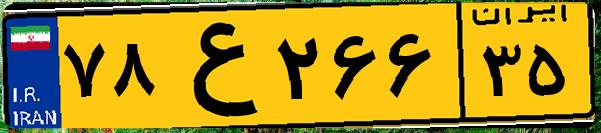2: (270, 28, 330, 110)
3: (475, 38, 525, 113)
5: (525, 38, 570, 115)
6: (385, 28, 445, 110), (330, 28, 385, 110)
7: (57, 26, 110, 100)
8: (110, 28, 158, 98)
ع: (158, 12, 270, 120)
